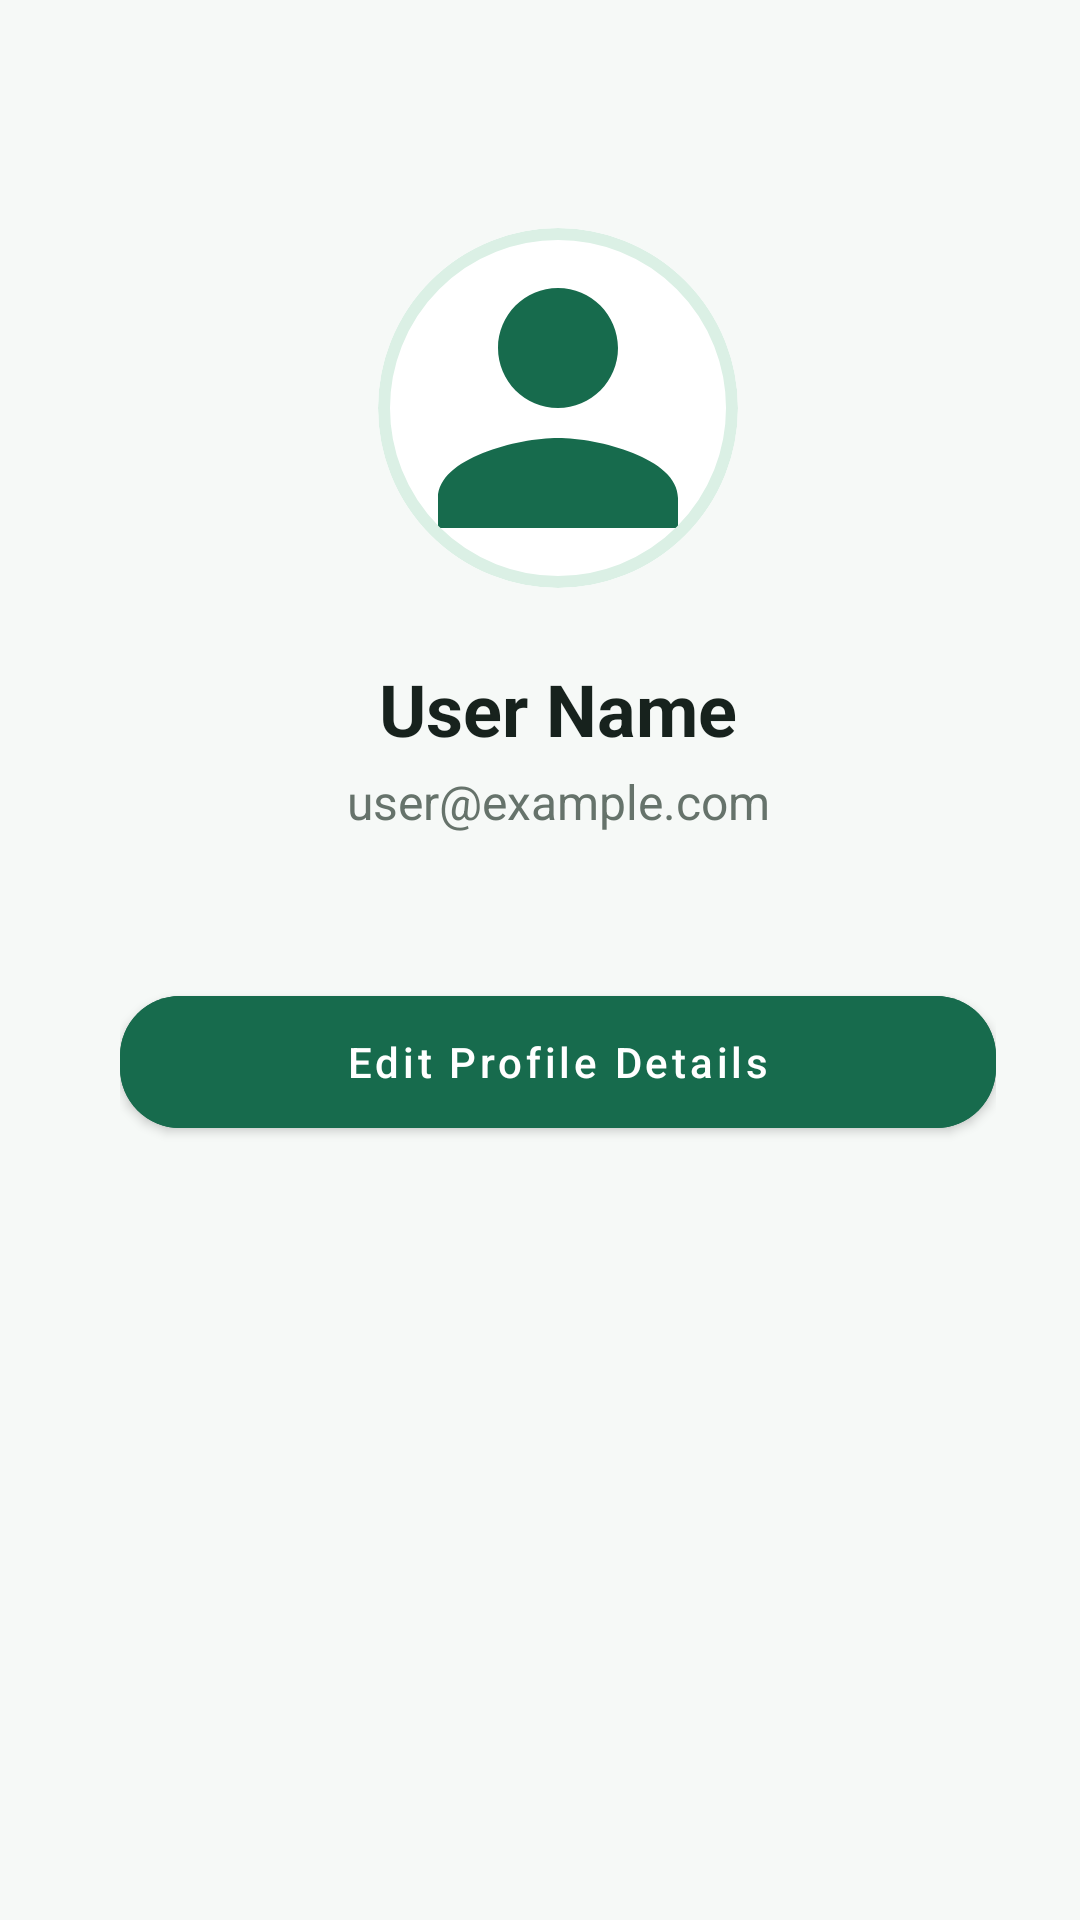

Icons on this 1080w x 1920h Android screen, each with the point to tap as [x,y]:
profile: [558,408]
